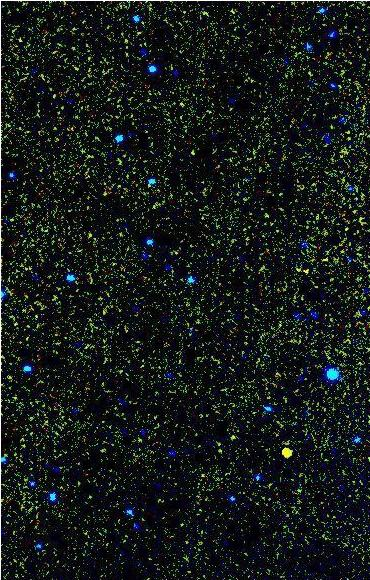star: (271, 437, 301, 467)
